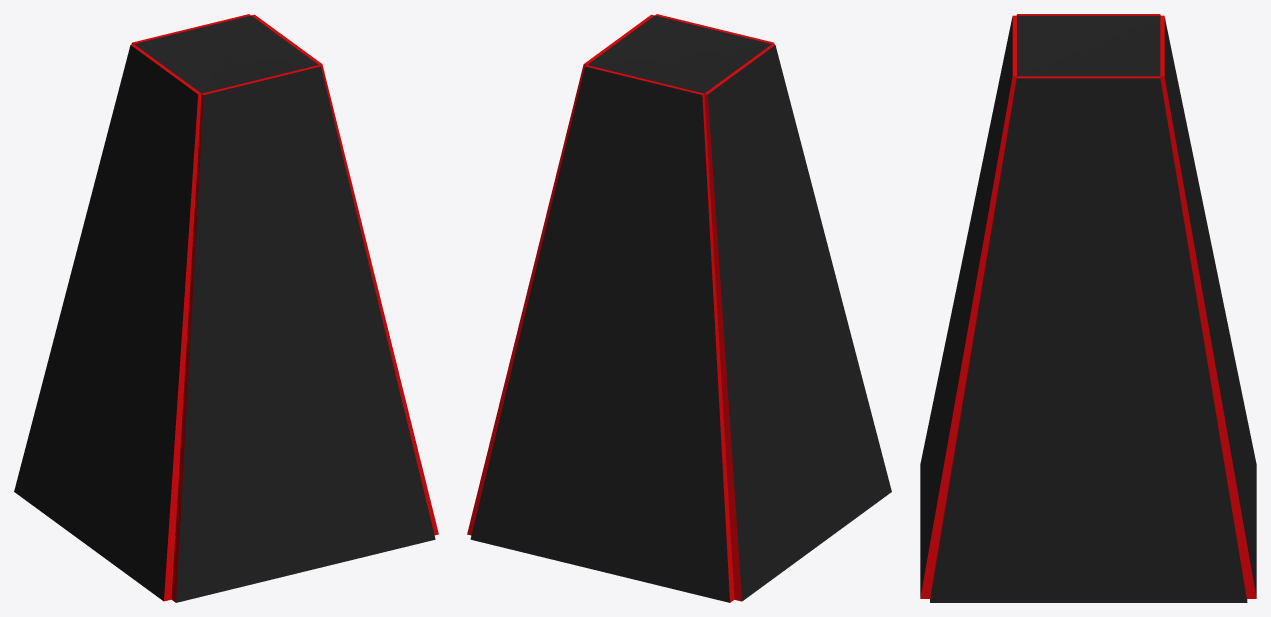
Rendered from Red Slanted.fbx.
3 views of the same model, side by side, from view 1: azimuth 30°, elevation 25°; view 2: azimuth 150°, elevation 25°; view 3: azimuth 270°, elevation 25° (orthographic). The views are drawn at different scales.
Parts seen in each view (by area): view 1: Cube.001; view 2: Cube.001; view 3: Cube.001.
Boxes of the visible parts, left/top/right/bottom form: Cube.001: left=14, top=14, right=438, bottom=602; Cube.001: left=467, top=14, right=891, bottom=602; Cube.001: left=920, top=14, right=1256, bottom=602.
Bounding box in the file's own units: 393 × 627 × 393.
